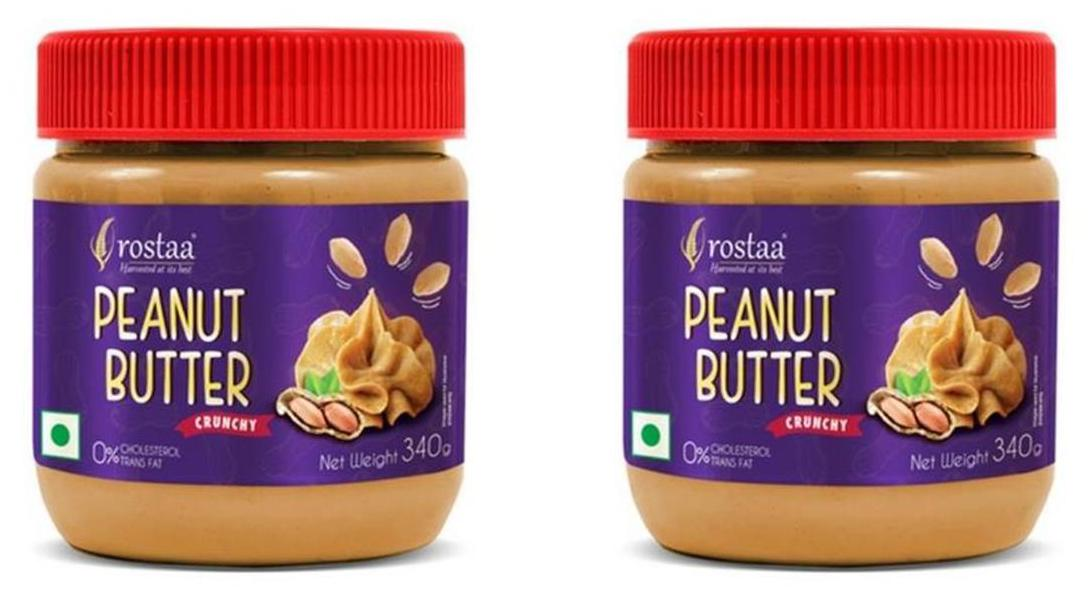JAR: (27, 20, 477, 570), (615, 22, 1066, 570)
